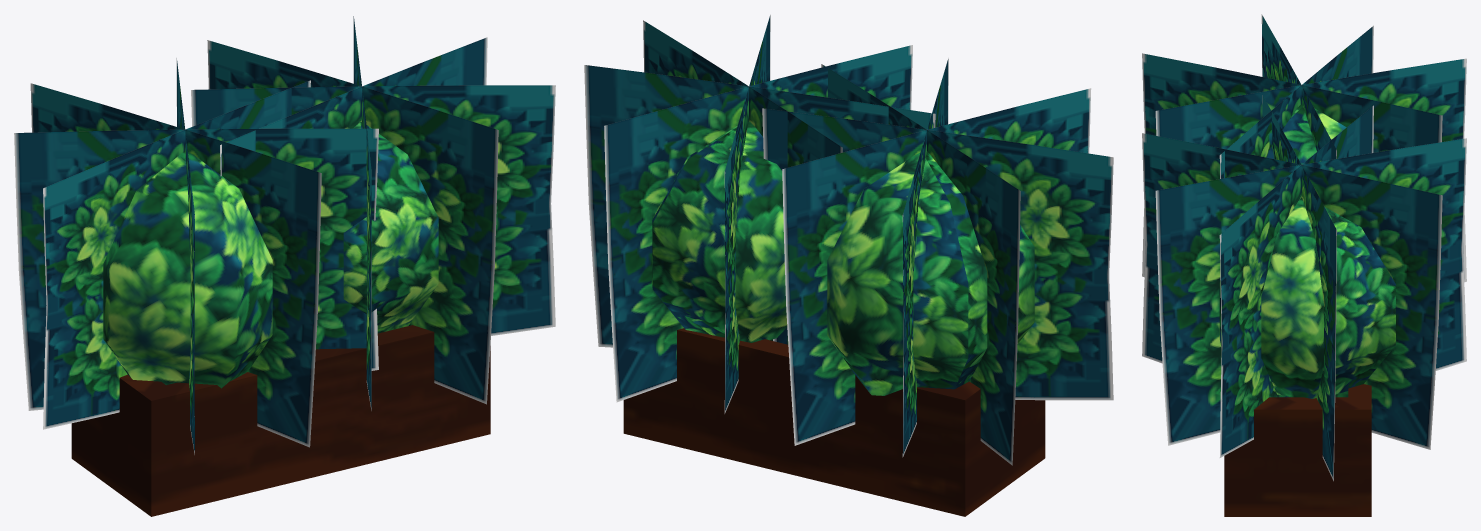
Rendered from SM_PROP_PLANT_pot_v5_01.glb.
3 renders of one model, left to right at view 1: azimuth 30°, elevation 25°; view 2: azimuth 150°, elevation 25°; view 3: azimuth 270°, elevation 25°, orthographic. The views are drawn at different scales.
Visible parts, largest first — view 1: SM_PROP_PLANT_pot_v5_01_EXPORT; view 2: SM_PROP_PLANT_pot_v5_01_EXPORT; view 3: SM_PROP_PLANT_pot_v5_01_EXPORT.
Boxes of the visible parts, x1=… form: SM_PROP_PLANT_pot_v5_01_EXPORT: x1=14, y1=16, x2=555, y2=516; SM_PROP_PLANT_pot_v5_01_EXPORT: x1=584, y1=14, x2=1113, y2=516; SM_PROP_PLANT_pot_v5_01_EXPORT: x1=1142, y1=14, x2=1466, y2=516.
Size of the model in its own units: 1.26 by 0.8307 by 0.781.
2 materials, 2 textured.
